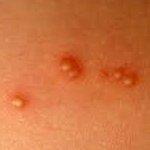Ants: (53, 47, 86, 82), (100, 66, 139, 89), (7, 89, 31, 111)
